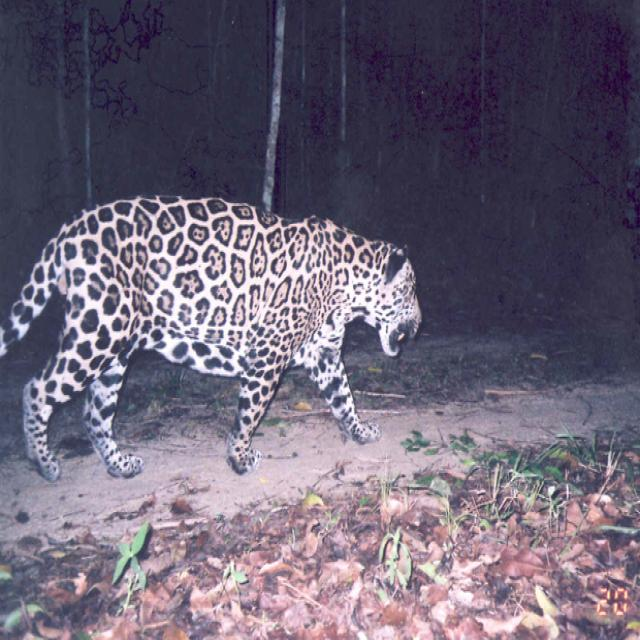Jaguar: (0, 192, 424, 483)
